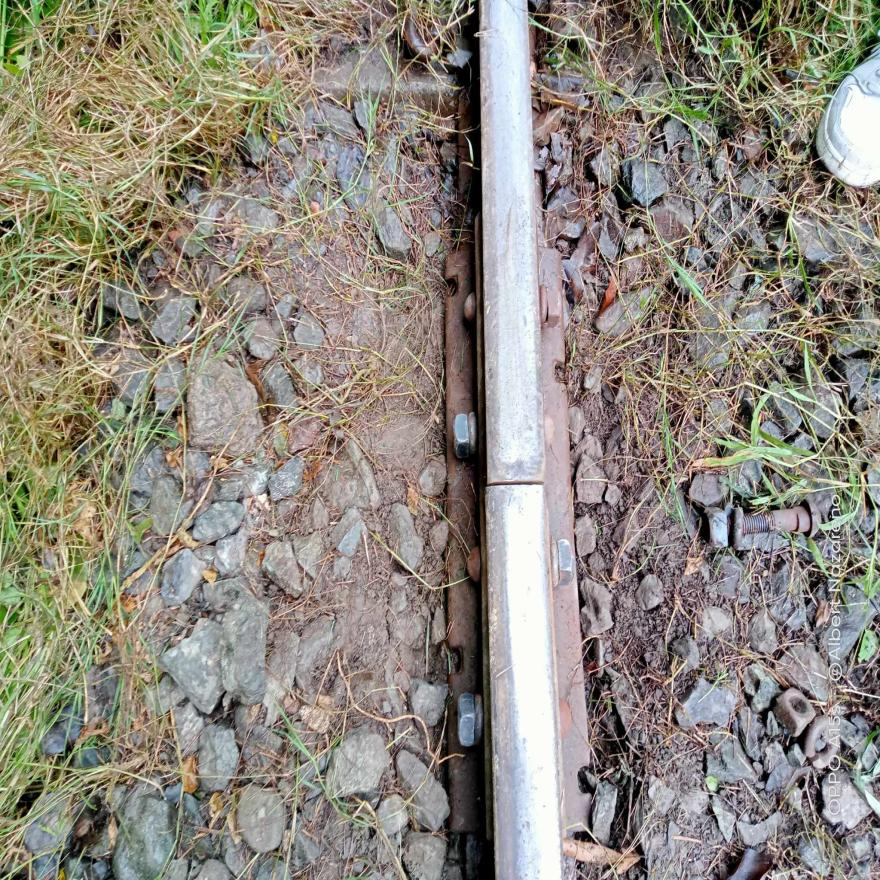railway-gap: (467, 423, 564, 552)
